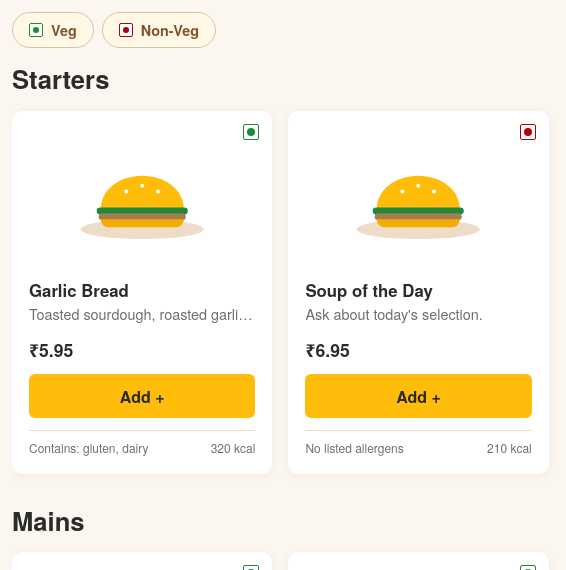
Scenario: MenuList — Veg / Non-Veg chips (mcdelivery-redesign AC-U4) › filters to non-vegetarian items, with only one chip pressed at a time
Click the button "Veg" at (53, 30), box [12,12,94,48]
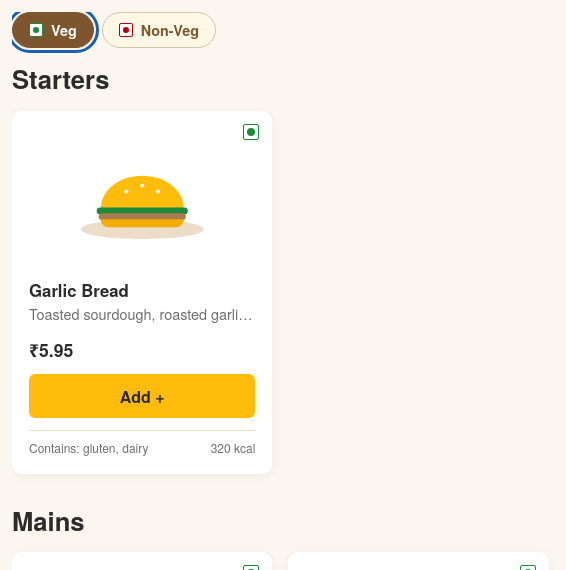
Click the button "Non-Veg" at (159, 30), box [102,12,216,48]
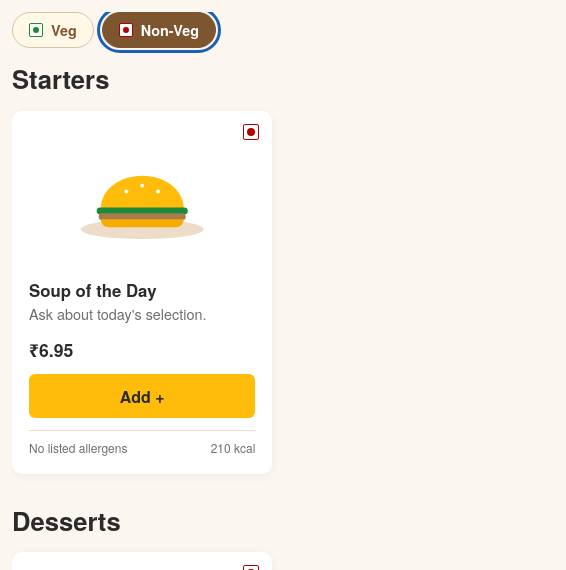
Check: the heading "Soup of the Day" is shown, box [29,278,156,302]
Check: the button "Garlic Bread" is gone
